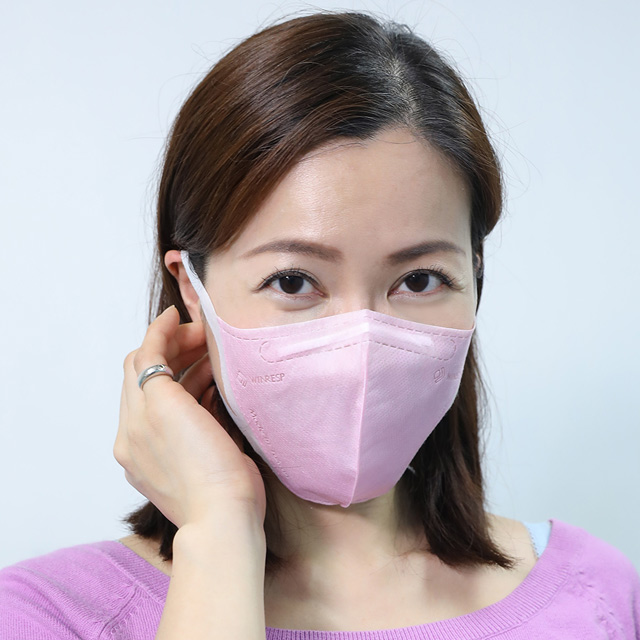mask: (209, 309, 474, 503)
